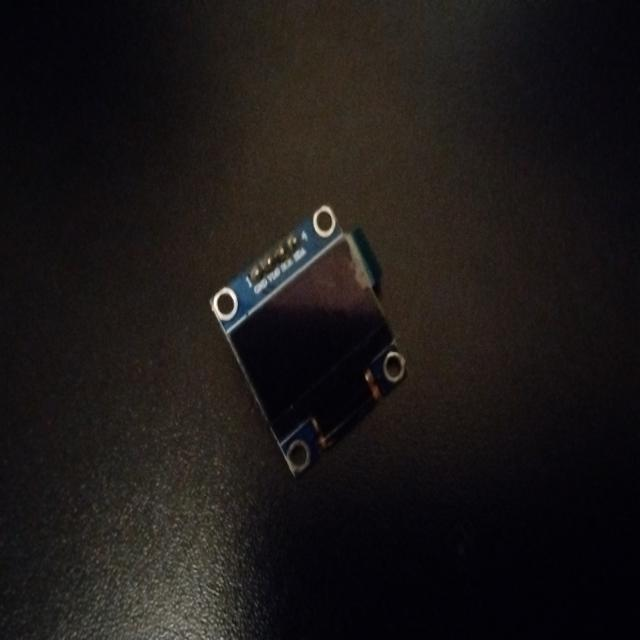oled: (202, 196, 422, 483)
